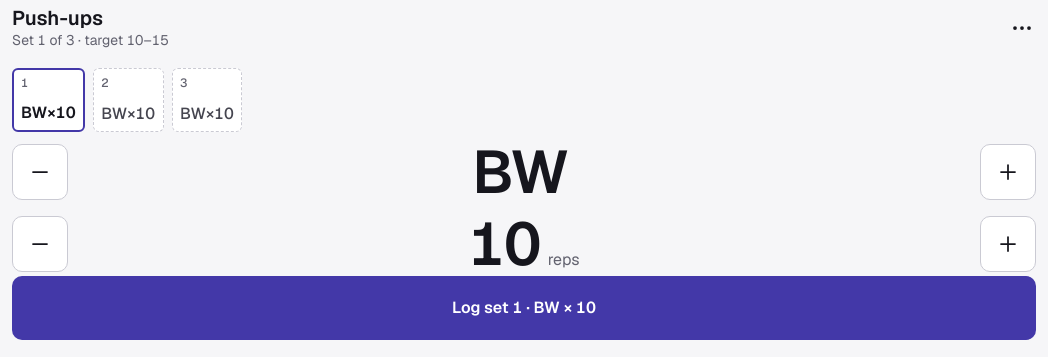
Test: O10 the plus button leaves a bodyweight exercise reading BW
The width and height of the screenshot is (1048, 357).
Click the button named "Increase weight" at (1008, 172), box [980, 144, 1036, 200]
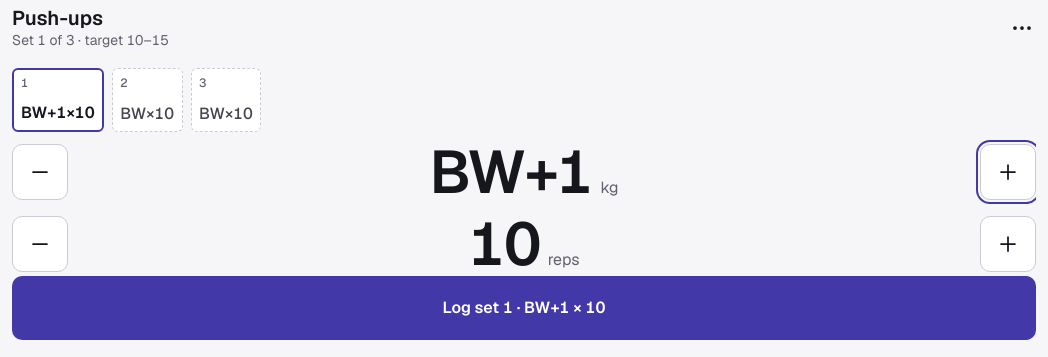
Now the button with aria-label "Weight" reads "BW+1", box [429, 140, 592, 204]
